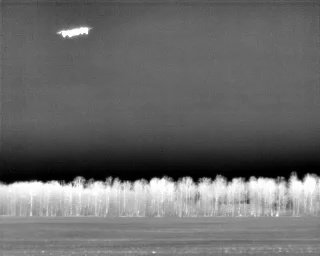DRONE: (52, 20, 96, 44)
